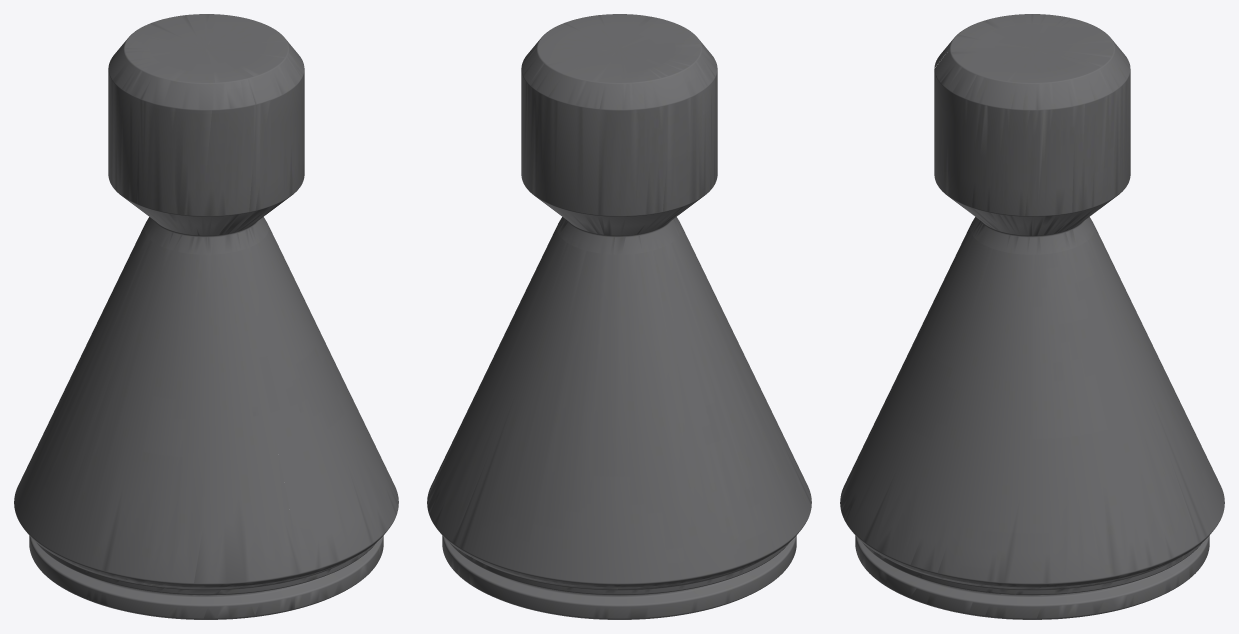
The model's file is pawn-black-hd.glb.
3 views of the same model, side by side, from view 1: azimuth 30°, elevation 25°; view 2: azimuth 150°, elevation 25°; view 3: azimuth 270°, elevation 25° (orthographic).
Visible parts, largest first — view 1: 06_pesec_cerna; view 2: 06_pesec_cerna; view 3: 06_pesec_cerna.
Boxes of the visible parts, x1,y1,x2,y2 form: 06_pesec_cerna: [14, 14, 398, 619]; 06_pesec_cerna: [427, 14, 811, 619]; 06_pesec_cerna: [840, 14, 1224, 619].
Bounding box in the file's own units: 0.6158 × 0.88 × 0.6158.
Materials: 1 (1 with a texture image).
